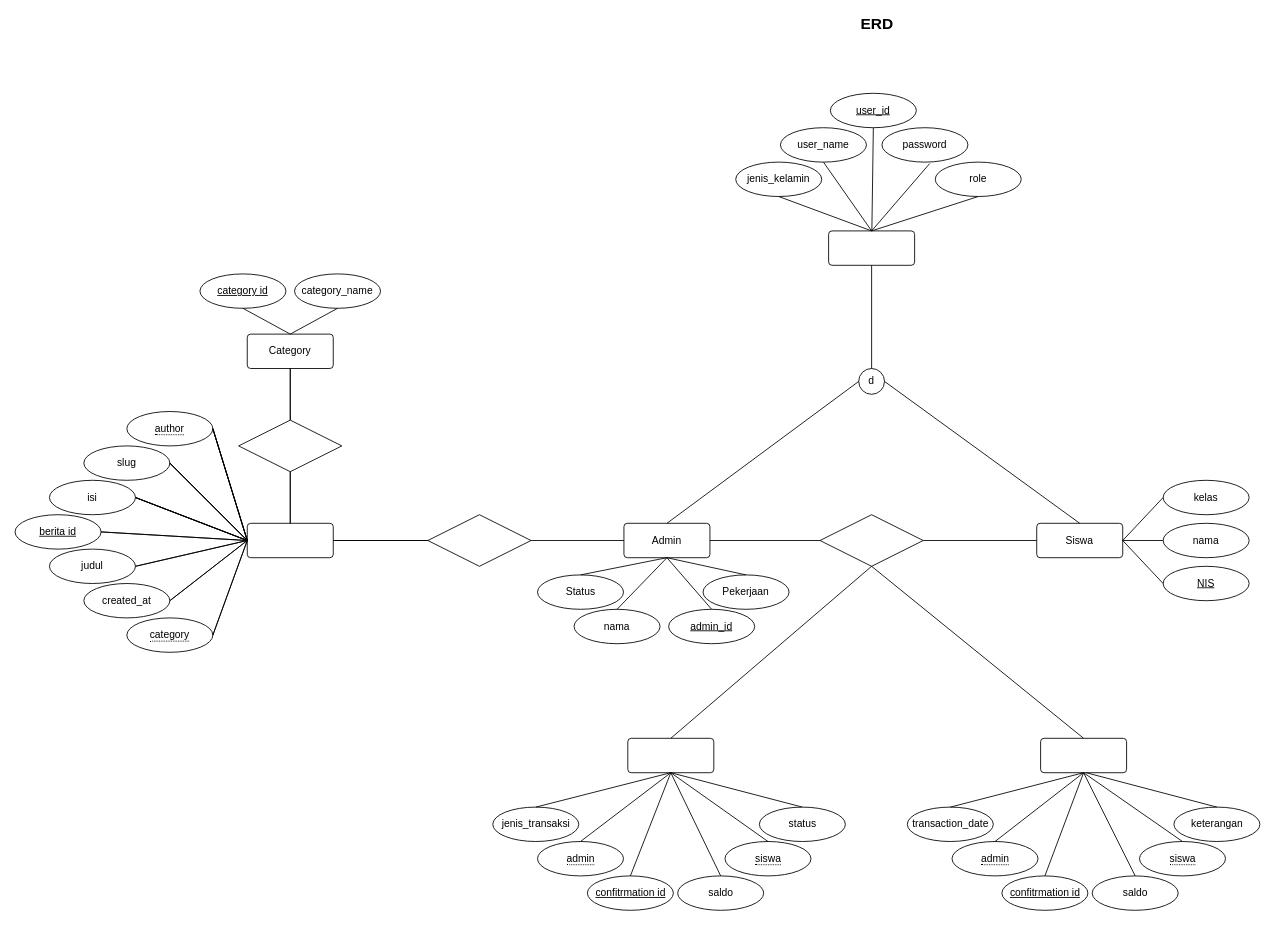
Some shapes in this 1275 by 925 pixel diagram are drawn without their labels. Here are the shapes that lost their labels. From the top down, the box of each, then its label:
(828, 230, 915, 265): User
(238, 419, 342, 472): Memiliki
(246, 522, 333, 558): Berita
(427, 514, 531, 566): Memosting
(819, 514, 923, 566): Melakukan
(627, 737, 714, 773): Confirmation
(1040, 737, 1127, 773): Transaction
